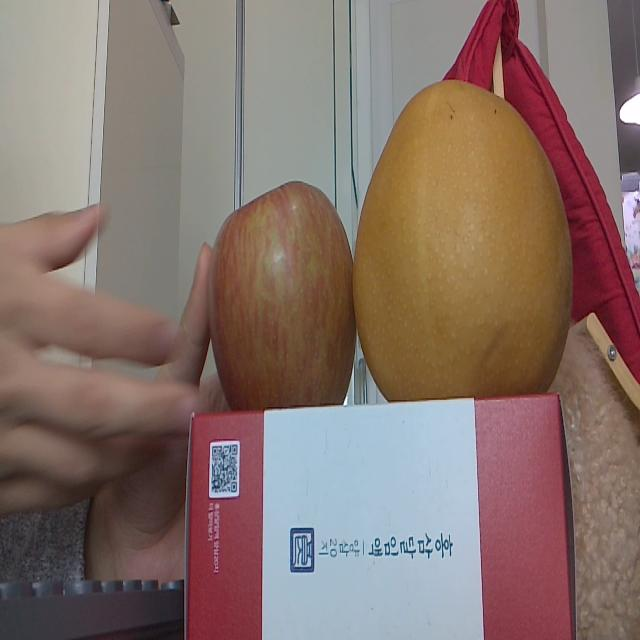apple: (208, 180, 354, 412)
pear: (356, 77, 576, 402)
